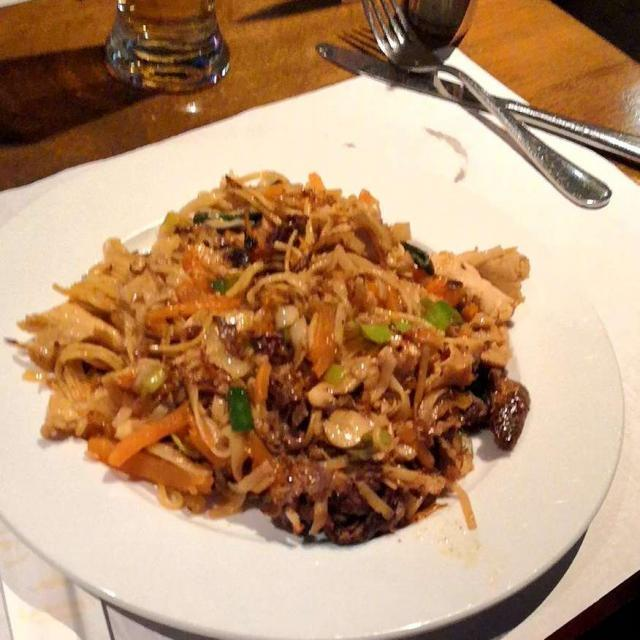beef: (236, 212, 529, 547)
